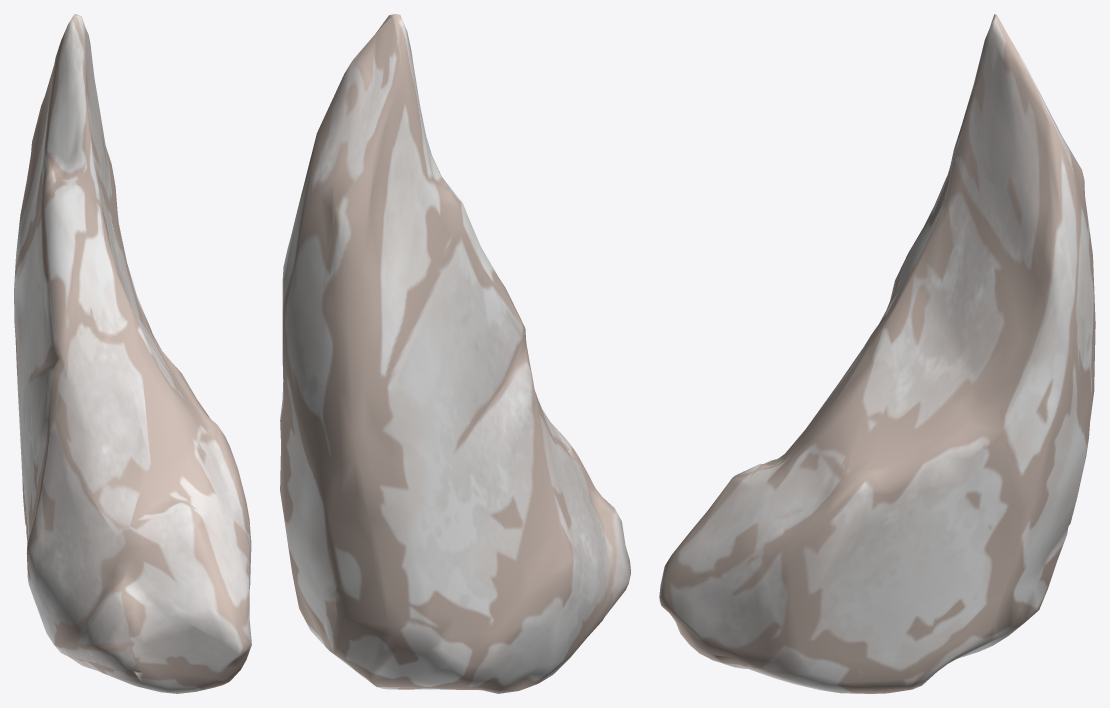
The model's file is Rock_5.FBX.
3 renders of one model, left to right at view 1: azimuth 30°, elevation 25°; view 2: azimuth 150°, elevation 25°; view 3: azimuth 270°, elevation 25°, orthographic. The views are drawn at different scales.
Visible parts, largest first — view 1: Rock_5; view 2: Rock_5; view 3: Rock_5.
Part boxes in pixels (x1,y1,x2,y2): Rock_5: (14,14,251,693); Rock_5: (280,14,630,693); Rock_5: (659,14,1095,693).
Bounding box in the file's own units: 49 × 150 × 91.57.
